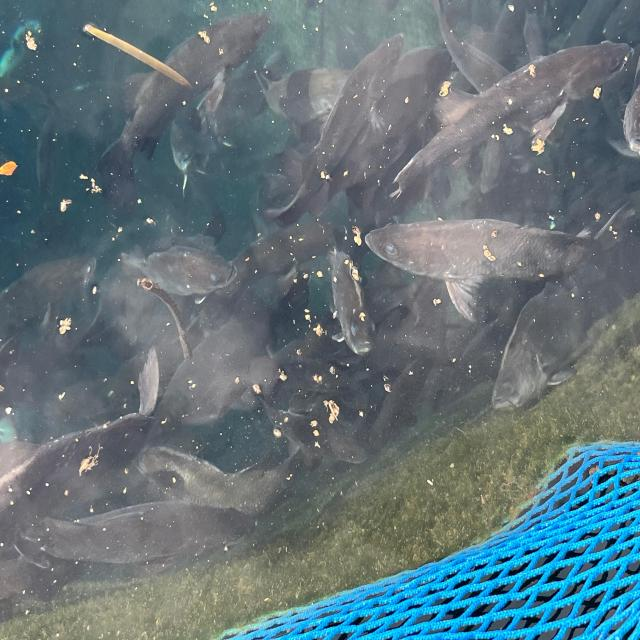ikan: (384, 35, 636, 180), (363, 207, 539, 300)
